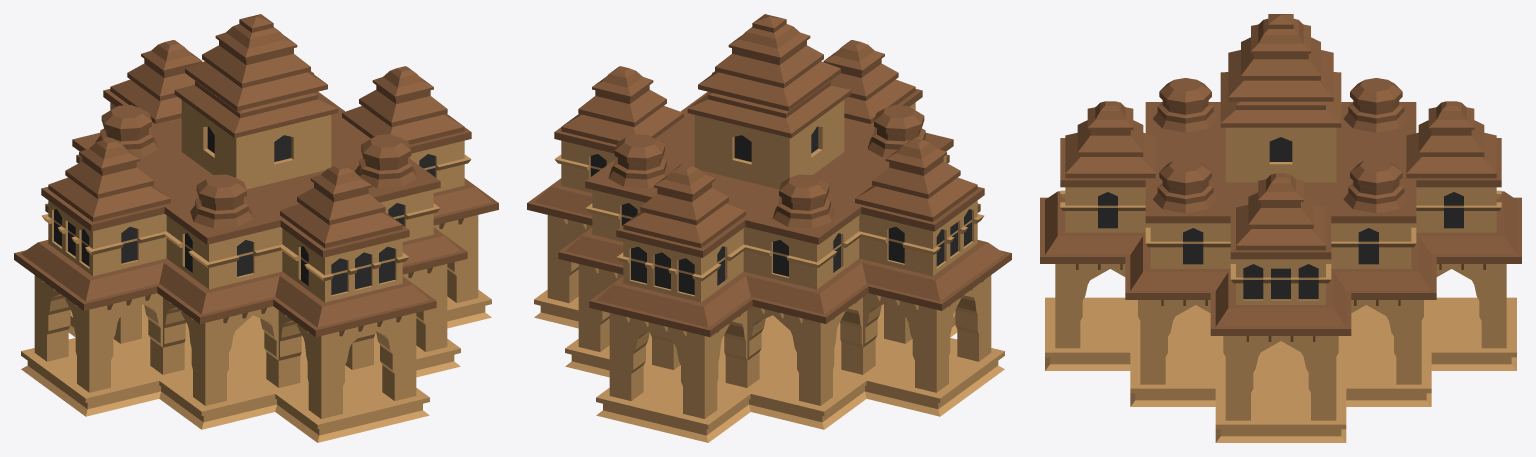
File: hindu-palace-small.fbx
The picture shows the model from 3 angles, left to right: view 1: azimuth 30°, elevation 25°; view 2: azimuth 150°, elevation 25°; view 3: azimuth 270°, elevation 25°; orthographic projection.
Visible parts, largest first — view 1: hindu-palace-small; view 2: hindu-palace-small; view 3: hindu-palace-small.
Boxes of the visible parts, left/top/right/bottom form: hindu-palace-small: left=14, top=14, right=498, bottom=442; hindu-palace-small: left=527, top=14, right=1011, bottom=442; hindu-palace-small: left=1040, top=14, right=1521, bottom=442.
Bounding box in the file's own units: 19.2 × 14.45 × 19.2.
